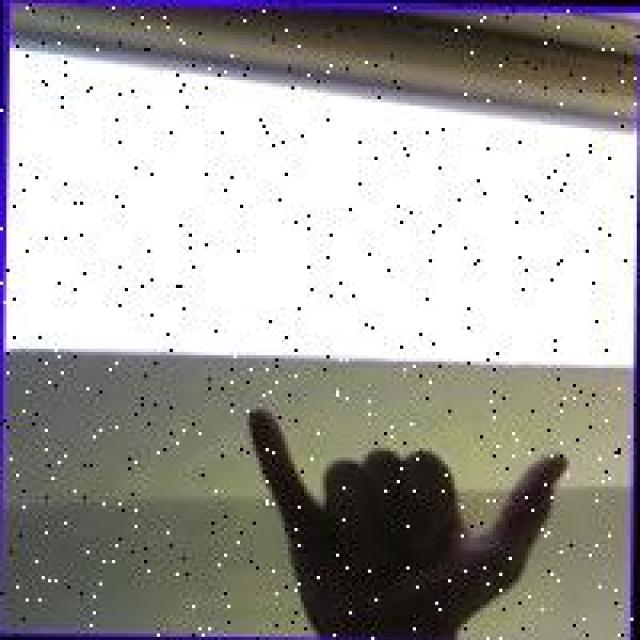Y: (237, 397, 576, 640)
